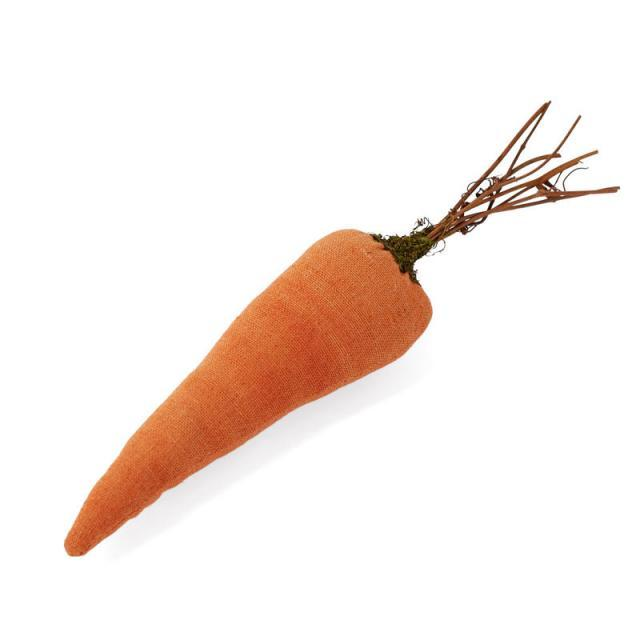Carrot: (50, 104, 629, 557)
